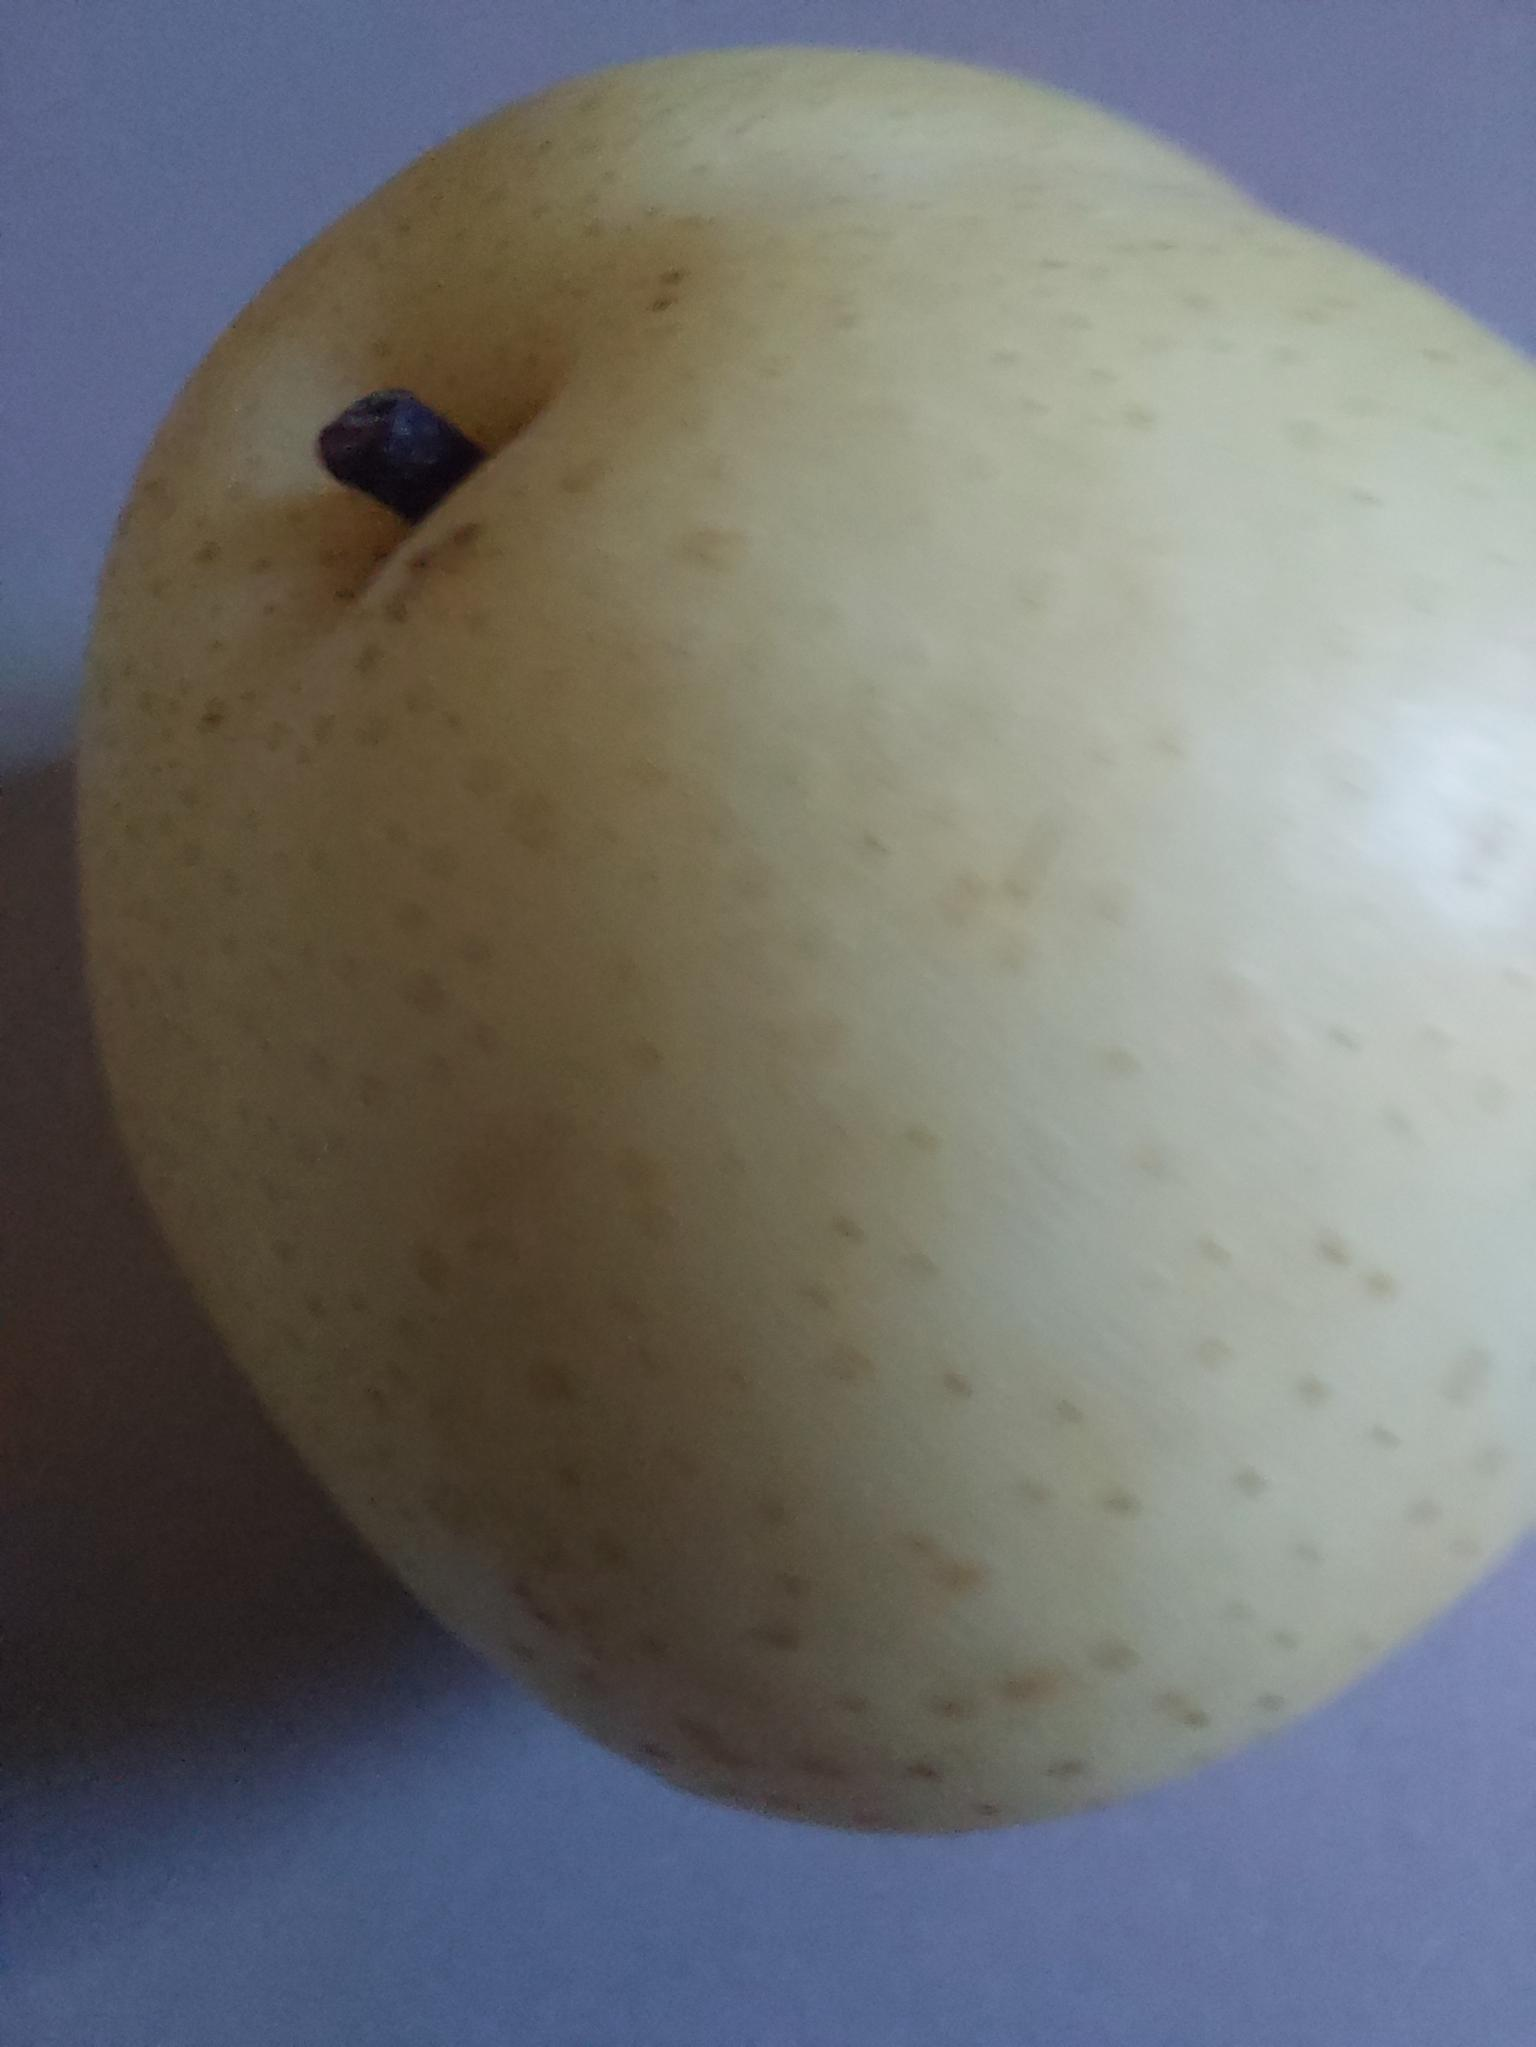Good Pear: (84, 13, 1536, 1841)
